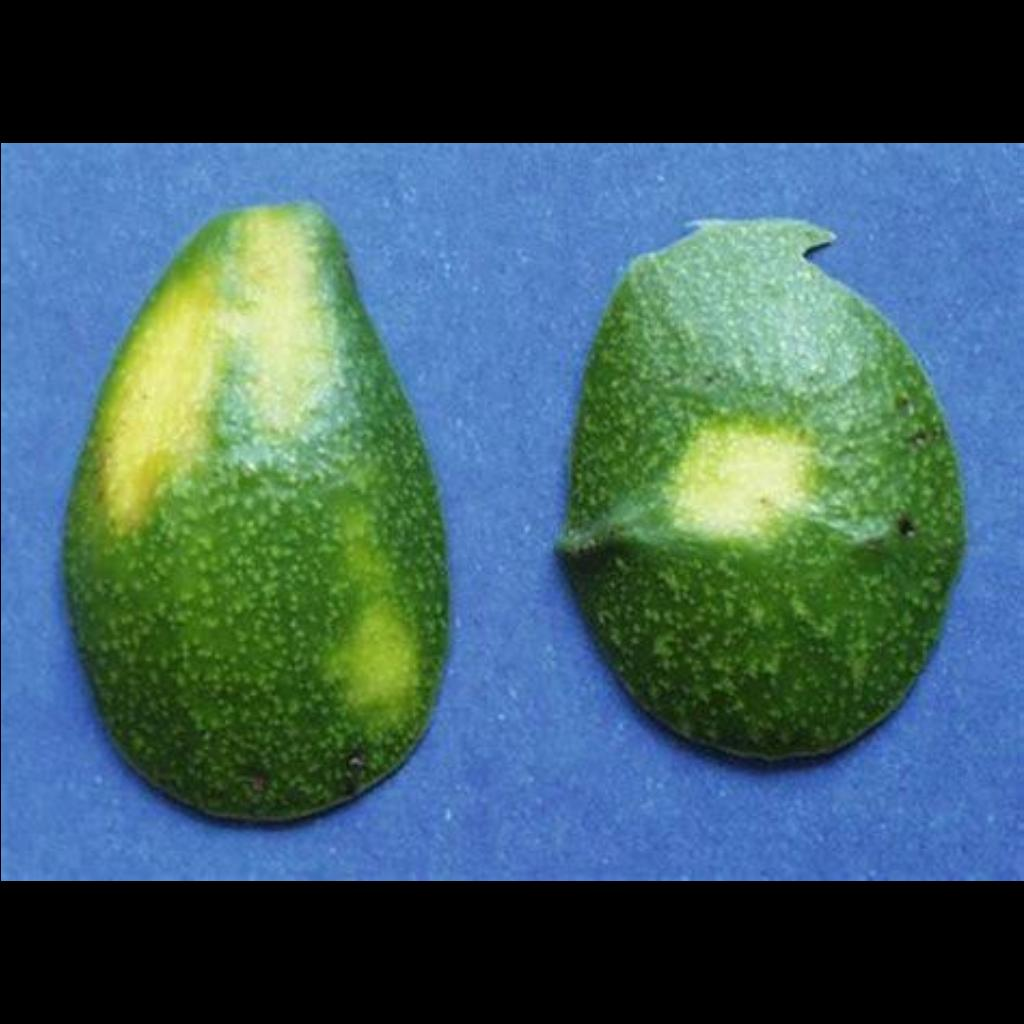sunblotch: (43, 204, 445, 762), (556, 252, 944, 702)
